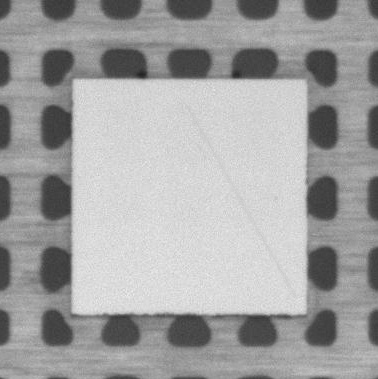DIE_CRACK: (187, 106, 295, 298)
